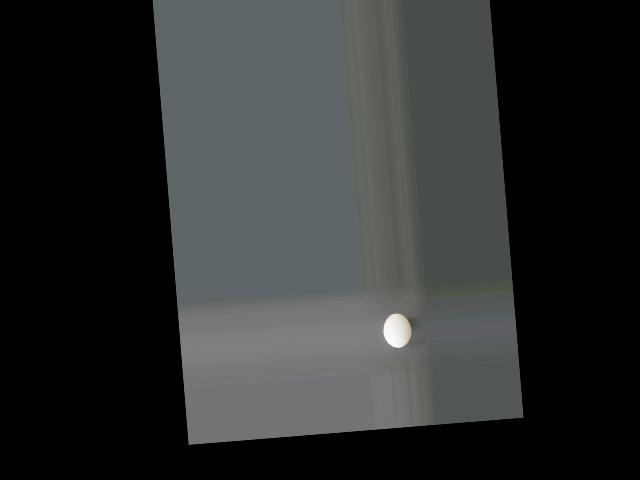egg: (382, 311, 412, 347)
